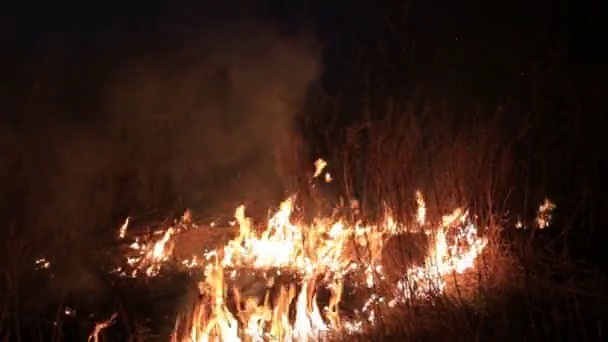fire: (182, 198, 383, 282), (187, 275, 345, 342), (389, 210, 486, 305), (122, 226, 176, 277), (415, 190, 427, 227), (538, 198, 552, 226), (384, 206, 395, 236), (313, 158, 325, 177)
